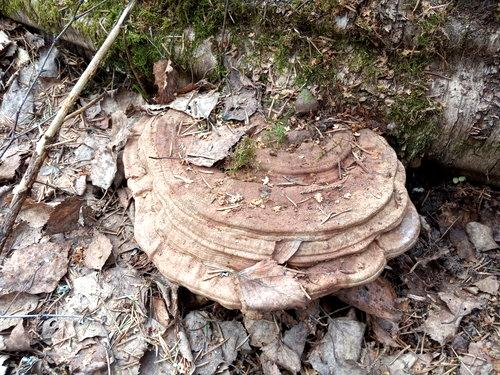Ganoderma - Fruit Body: (115, 88, 422, 308)
